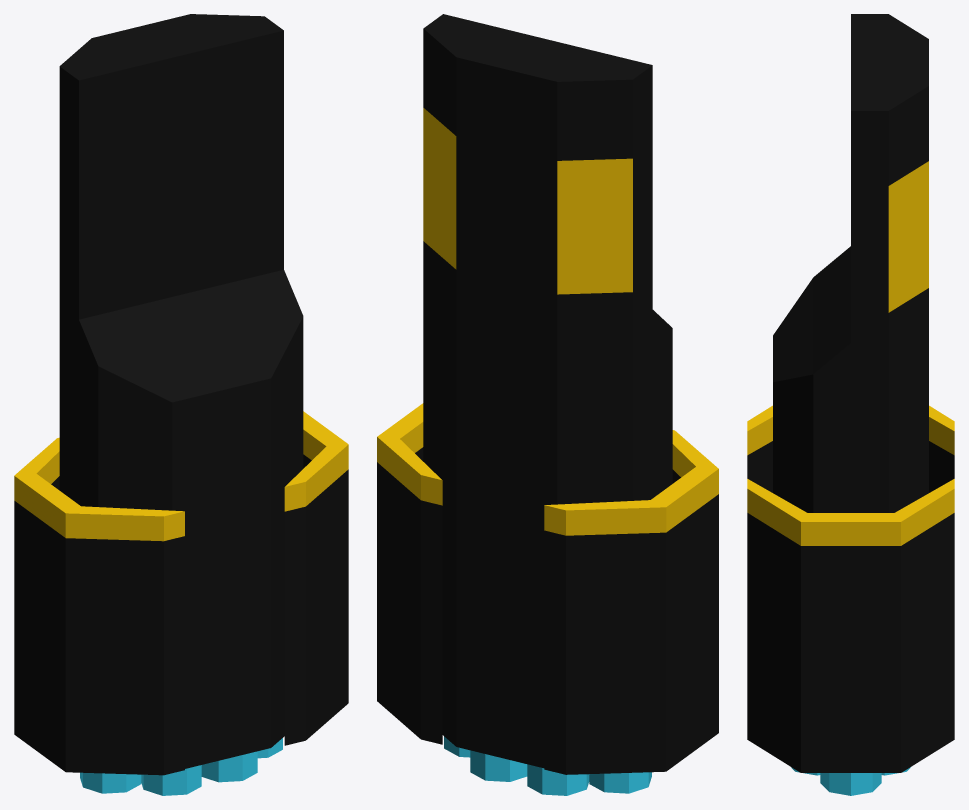
The model's file is Low Poly Super Destroyer (Color).obj.
3 views of the same model, side by side, from view 1: azimuth 30°, elevation 25°; view 2: azimuth 150°, elevation 25°; view 3: azimuth 270°, elevation 25° (orthographic). The views are drawn at different scales.
Visible parts, largest first — view 1: Super_Destroyer, Super_Destroyer_Wings.001, Super_Destroyer_Wings.002, Thrusters; view 2: Super_Destroyer, Super_Destroyer_Wings.001, Super_Destroyer_Wings.002, Thrusters; view 3: Super_Destroyer, Super_Destroyer_Wings.002, Super_Destroyer_Wings.001, Thrusters.
Part boxes in pixels (bbox=[...]): Super_Destroyer: bbox=[59, 14, 303, 768]; Super_Destroyer_Wings.001: bbox=[14, 437, 184, 775]; Super_Destroyer_Wings.002: bbox=[284, 411, 348, 745]; Thrusters: bbox=[80, 738, 282, 795]; Super_Destroyer: bbox=[423, 14, 672, 768]; Super_Destroyer_Wings.001: bbox=[544, 430, 718, 774]; Super_Destroyer_Wings.002: bbox=[377, 403, 442, 744]; Thrusters: bbox=[444, 736, 651, 795]; Super_Destroyer: bbox=[773, 14, 928, 512]; Super_Destroyer_Wings.002: bbox=[747, 479, 954, 772]; Super_Destroyer_Wings.001: bbox=[747, 405, 954, 492]; Thrusters: bbox=[791, 767, 910, 795].
Size of the model in its own units: 0.4554 by 1.09 by 0.2978.
